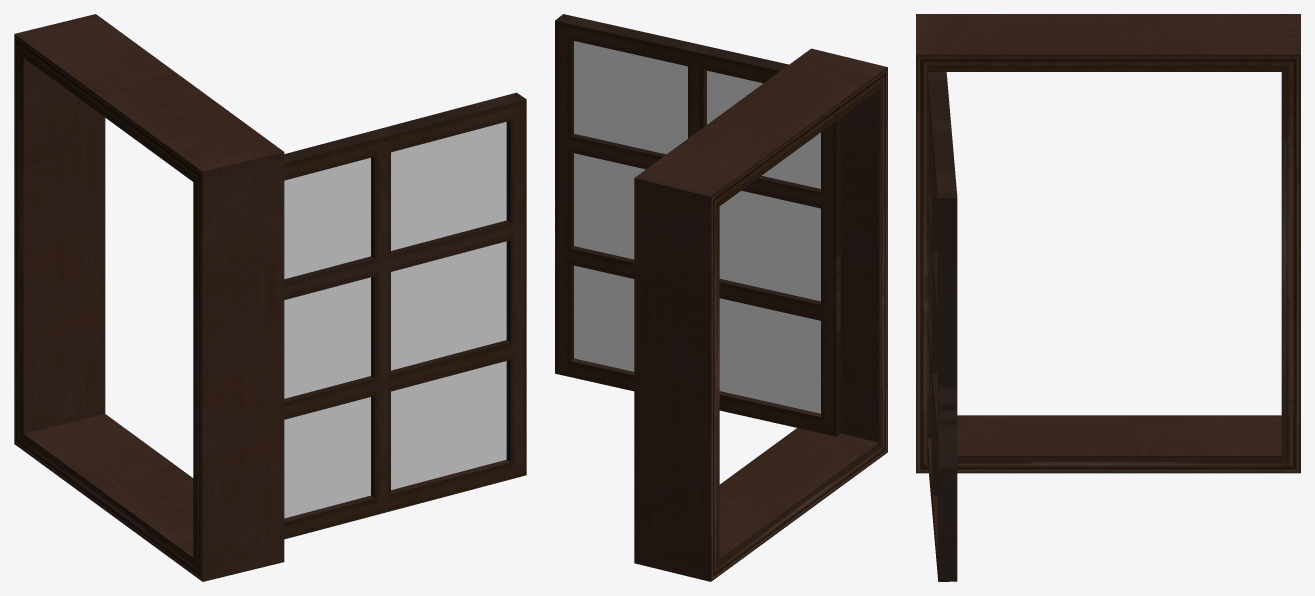
Rendered from window_m2_drops_ani.fbx.
3 renders of one model, left to right at view 1: azimuth 30°, elevation 25°; view 2: azimuth 150°, elevation 25°; view 3: azimuth 270°, elevation 25°, orthographic. The views are drawn at different scales.
Visible parts, largest first — view 1: window_mainframe, window_pane; view 2: window_mainframe, window_pane; view 3: window_mainframe, window_pane.
Boxes of the visible parts, x1,y1,x2,y2 form: window_mainframe: (14, 14, 284, 581); window_pane: (284, 92, 526, 539); window_mainframe: (634, 48, 887, 581); window_pane: (555, 14, 840, 436); window_mainframe: (916, 14, 1300, 473); window_pane: (927, 72, 957, 581).
Bounding box in the file's own units: 2 × 2.05 × 2.4.
